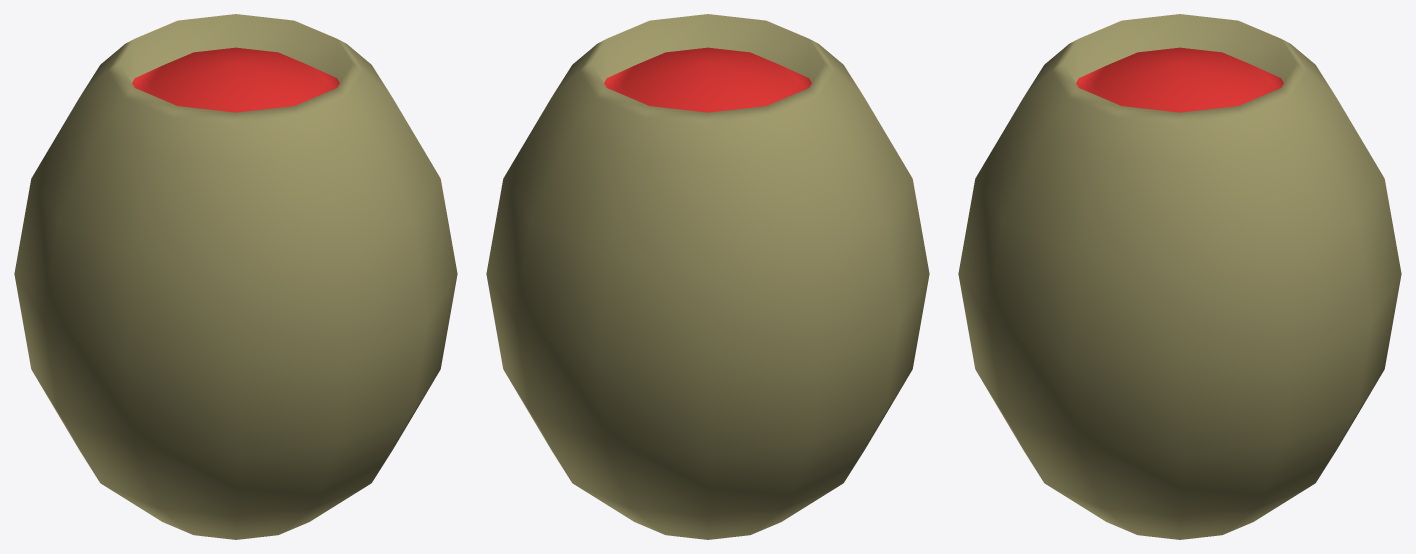
Rendered from Olive.fbx.
The picture shows the model from 3 angles, left to right: view 1: azimuth 30°, elevation 25°; view 2: azimuth 150°, elevation 25°; view 3: azimuth 270°, elevation 25°; orthographic projection.
Visible parts, largest first — view 1: Olive; view 2: Olive; view 3: Olive.
Part boxes in pixels (x1,y1,x2,y2): Olive: (14, 14, 457, 539); Olive: (486, 14, 929, 539); Olive: (958, 14, 1401, 539).
Bounding box in the file's own units: 20.33 × 20.33 × 23.27.
